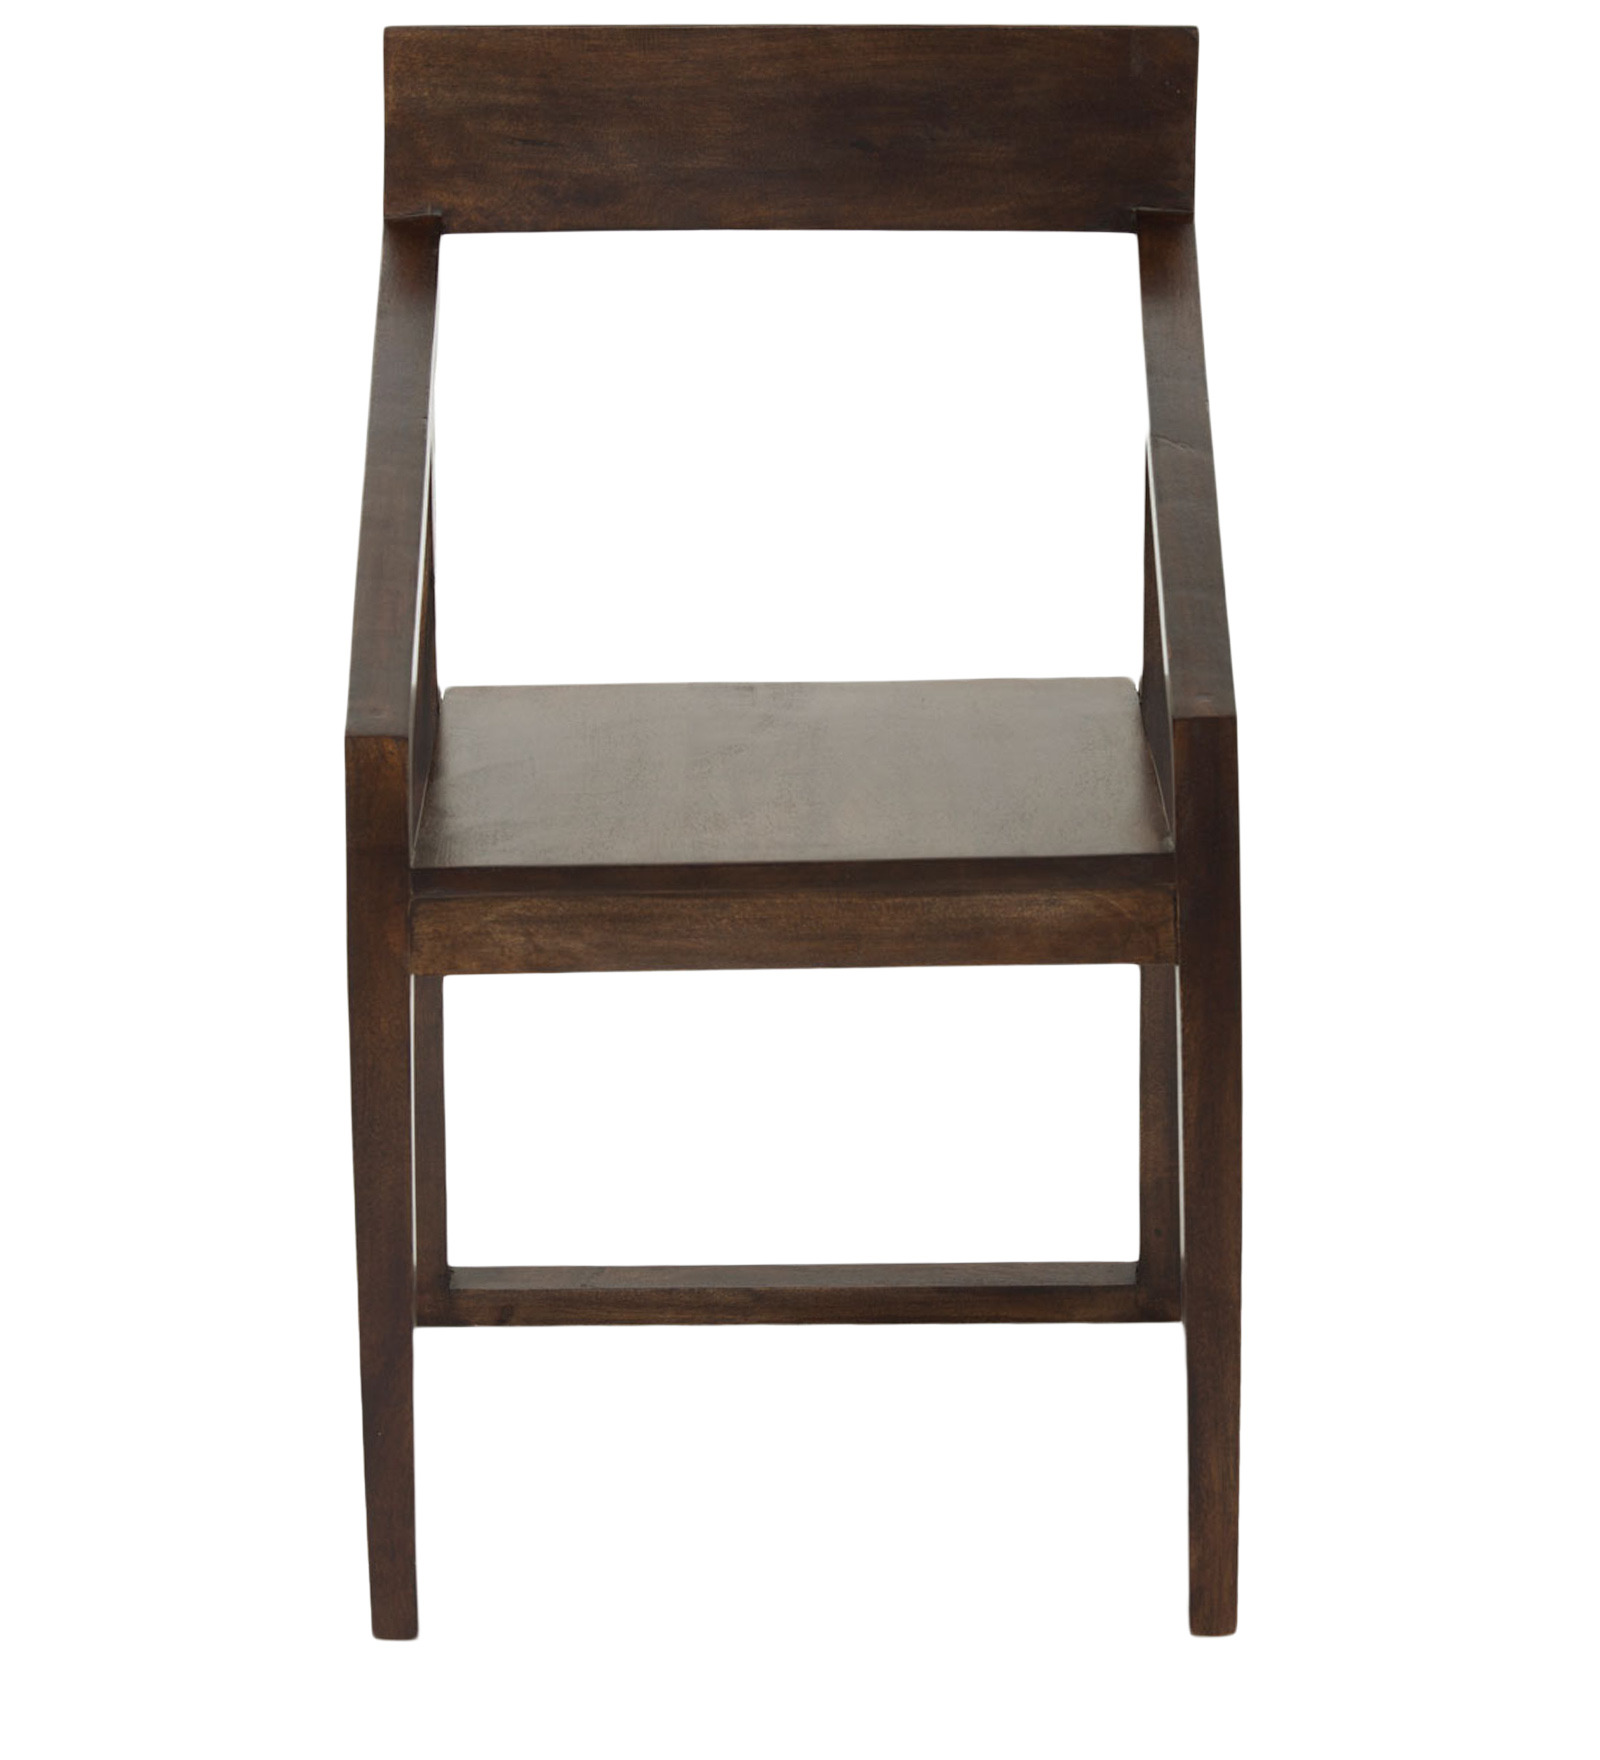Dulwich Solid Wood Arm Chair in Provincial Teak Finish by TheArmchair: (271, 15, 1306, 1699)
